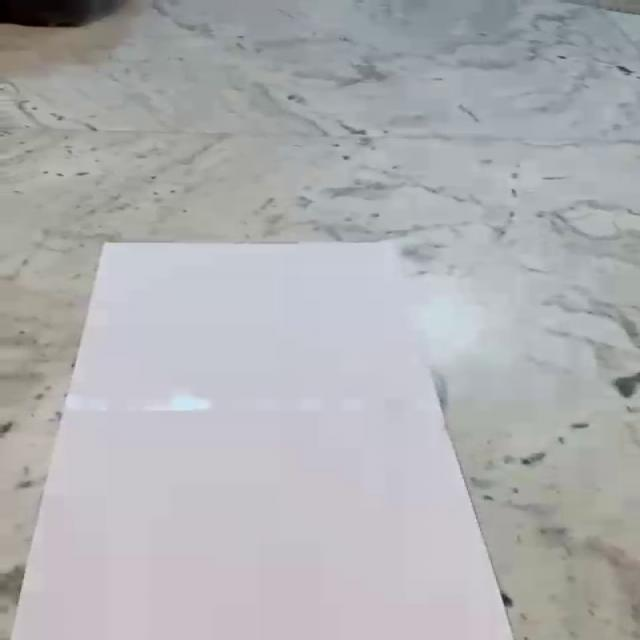road: (11, 242, 515, 640)
